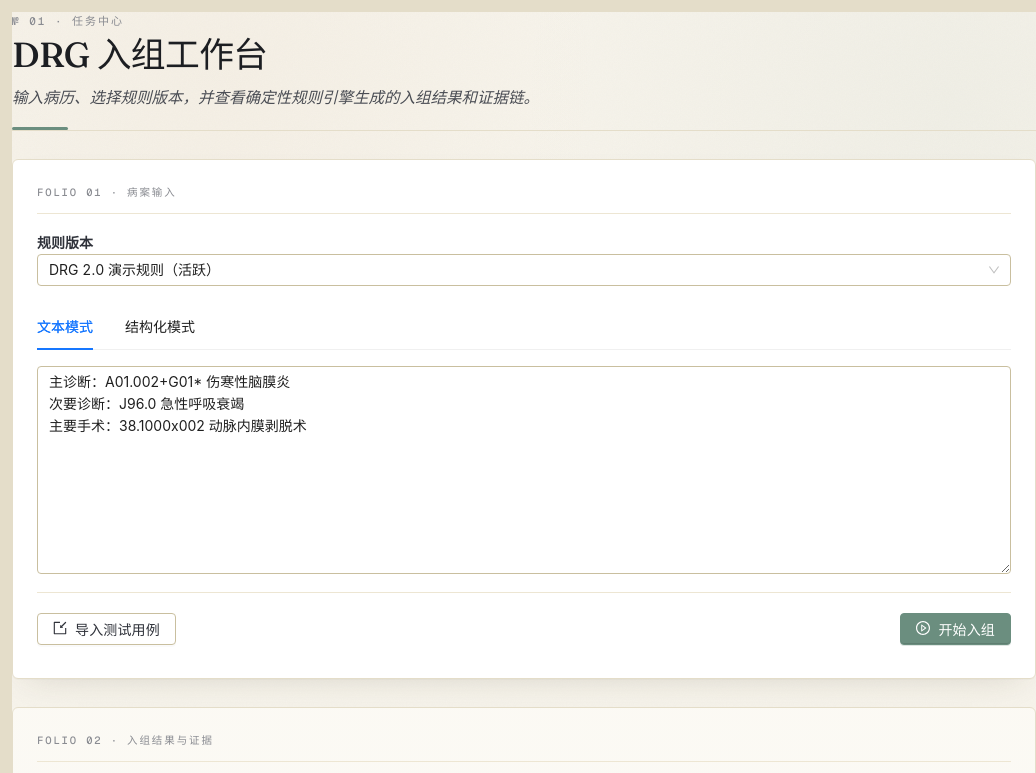
DRGGrouping › switches to structured mode
The image size is (1036, 773).
Click the tab "结构化模式". click: (160, 327)
box: x1=125 y1=316 x2=195 y2=338
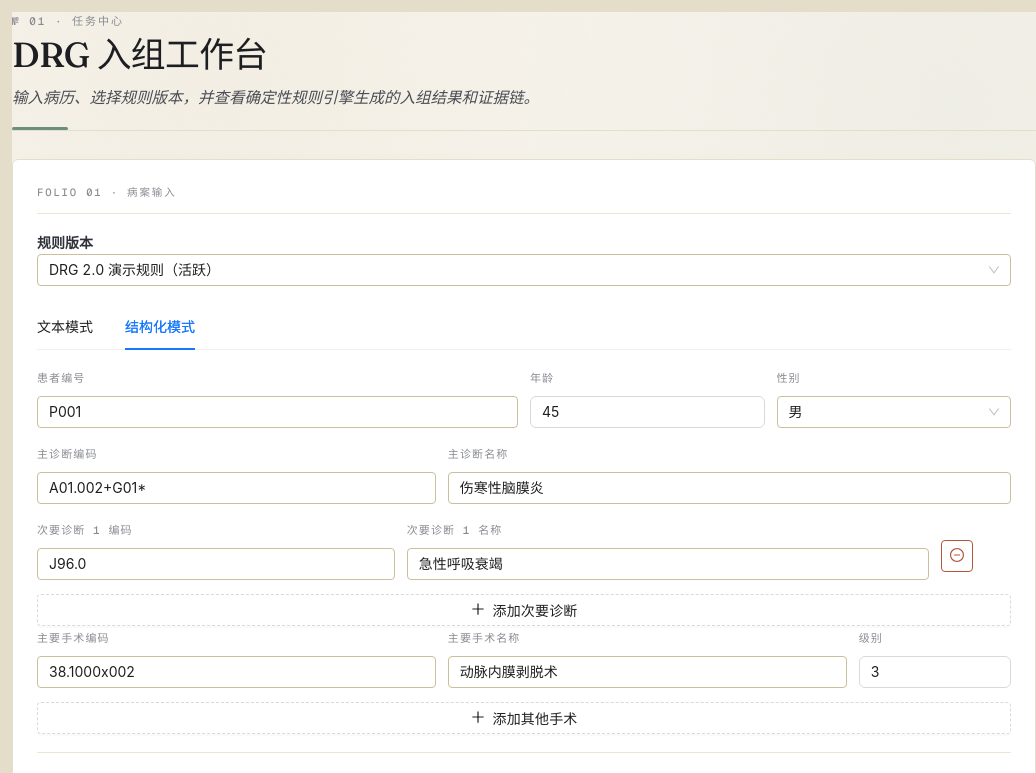
Expected: the field with placeholder "伤寒性脑膜炎" is shown, x1=448 y1=472 x2=1011 y2=504
